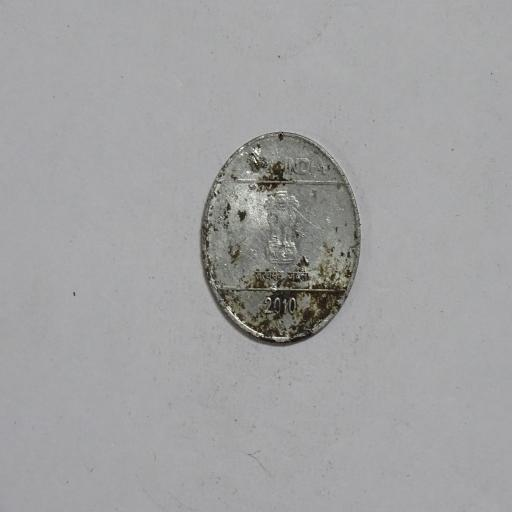rupee2: (196, 131, 361, 350)
